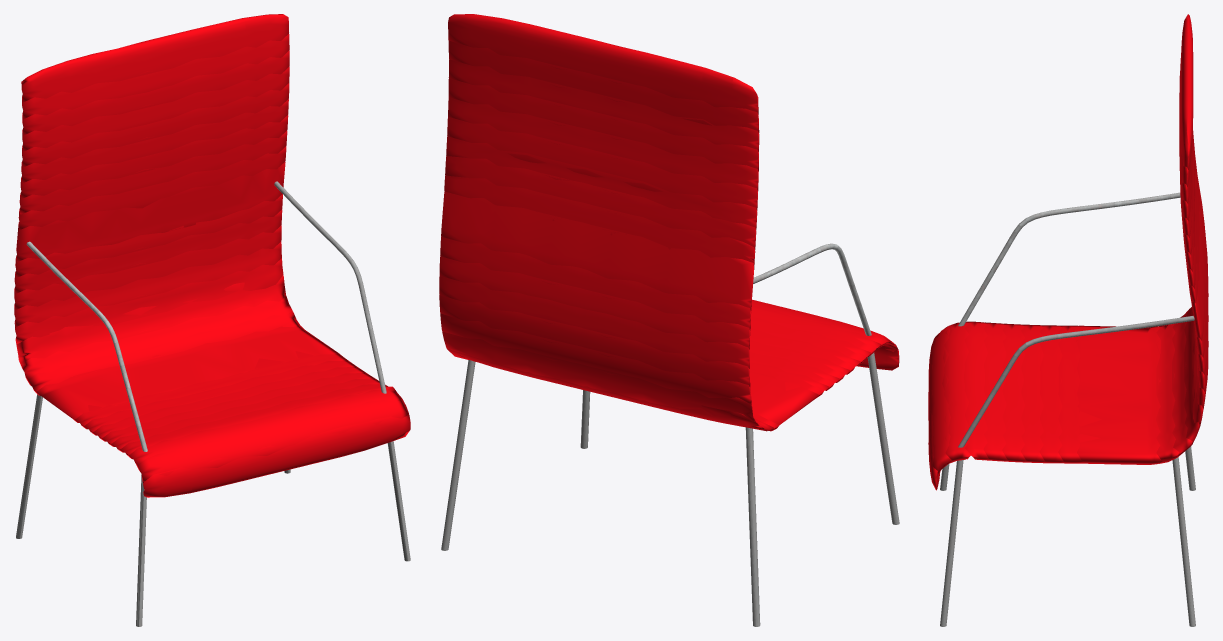
Rendered from cuck chair.fbx.
The picture shows the model from 3 angles, left to right: view 1: azimuth 30°, elevation 25°; view 2: azimuth 150°, elevation 25°; view 3: azimuth 270°, elevation 25°; orthographic projection. The views are drawn at different scales.
Parts seen in each view (by area): view 1: Mball.001, Cylinder.001, Cylinder, Cylinder.003, Cylinder.004, Cylinder.002; view 2: Mball.001, Cylinder.003, Cylinder.005, Cylinder.004, Cylinder; view 3: Mball.001, Cylinder.001, Cylinder, Cylinder.005, Cylinder.002.
Boxes of the visible parts, left/top/right/bottom form: Mball.001: left=14, top=14, right=410, bottom=497; Cylinder.001: left=274, top=181, right=386, bottom=393; Cylinder: left=26, top=241, right=147, bottom=451; Cylinder.003: left=16, top=394, right=42, bottom=538; Cylinder.004: left=136, top=474, right=146, bottom=626; Cylinder.002: left=387, top=441, right=410, bottom=561; Mball.001: left=439, top=14, right=899, bottom=431; Cylinder.003: left=745, top=427, right=760, bottom=626; Cylinder.005: left=441, top=360, right=475, bottom=550; Cylinder.004: left=867, top=352, right=899, bottom=524; Cylinder: left=753, top=243, right=871, bottom=335; Mball.001: left=928, top=14, right=1208, bottom=490; Cylinder.001: left=958, top=316, right=1194, bottom=447; Cylinder: left=958, top=192, right=1180, bottom=326; Cylinder.005: left=1172, top=457, right=1195, bottom=626; Cylinder.002: left=940, top=460, right=963, bottom=626.
Size of the model in its own units: 202 by 329 by 172.
7 materials, 6 textured.
